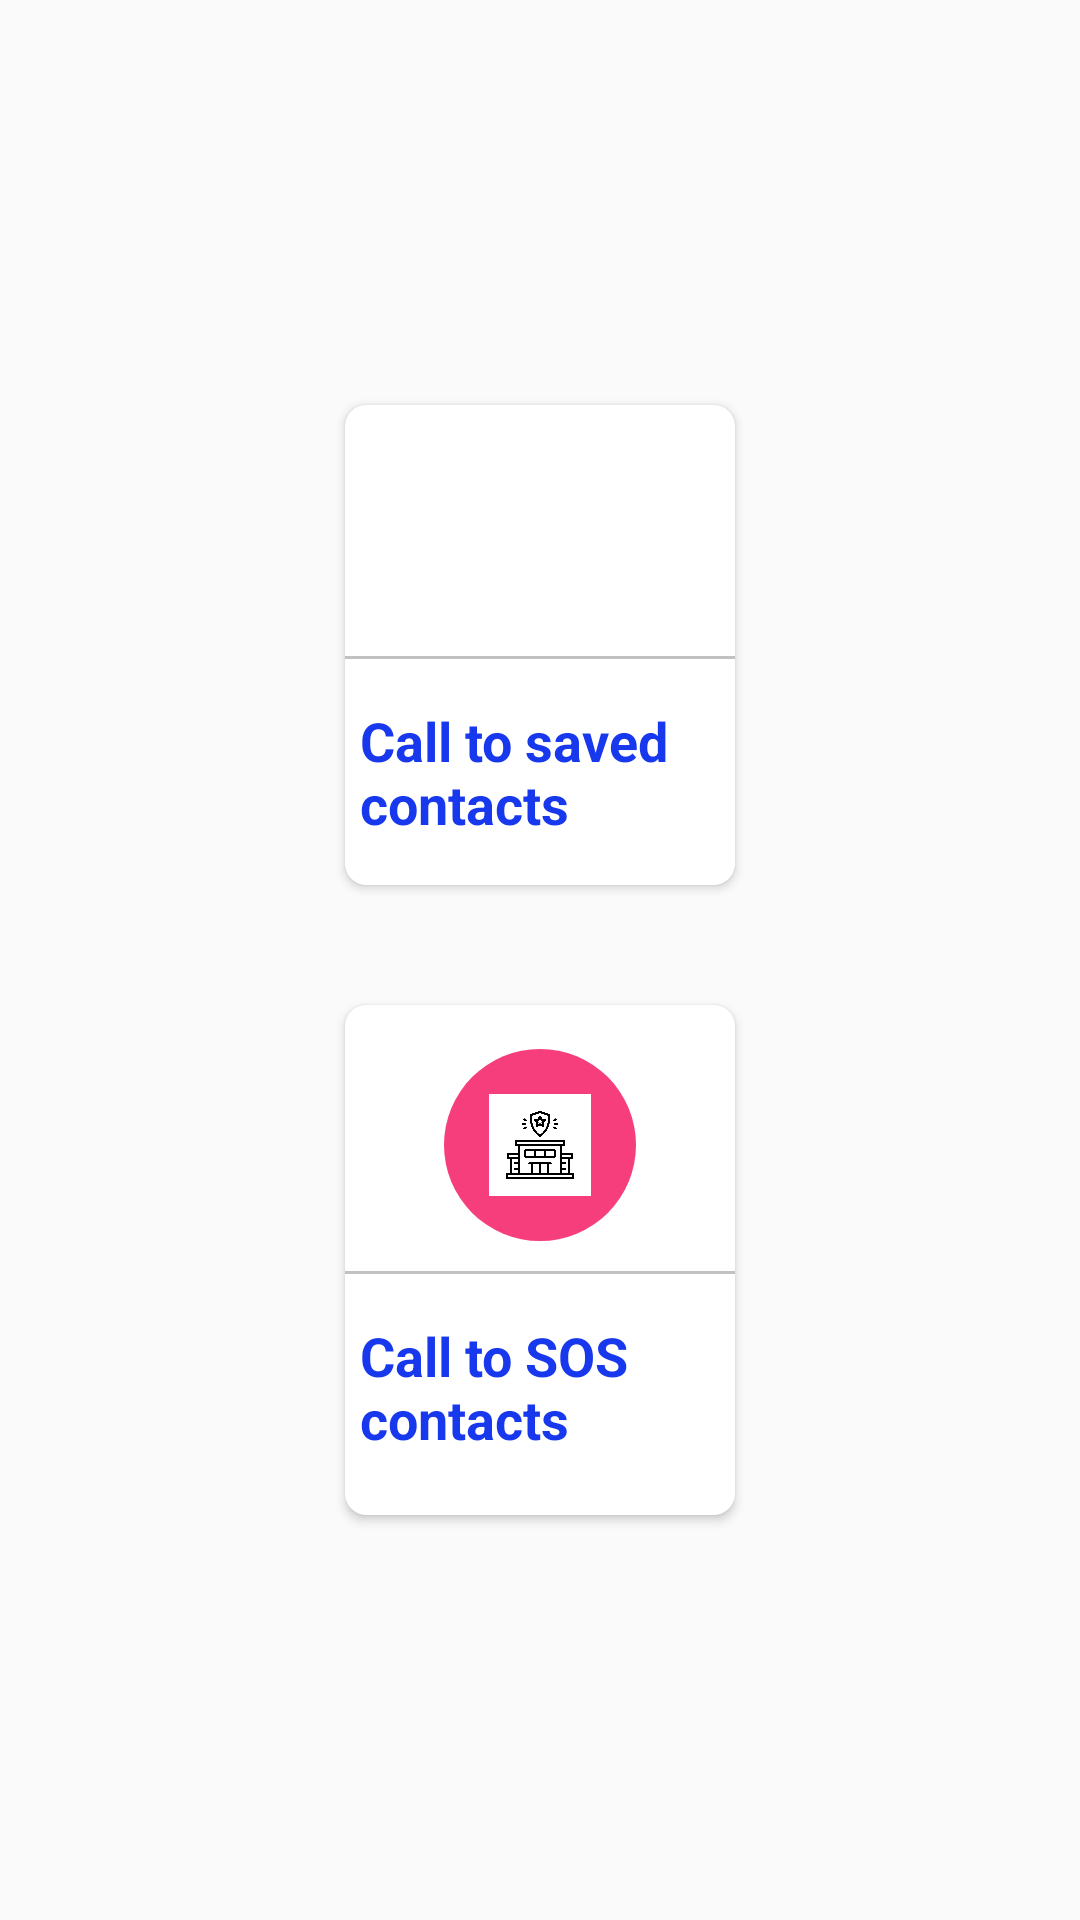

Named icons in this screenshot (1080px x 1920px) and their bounding boxes, (x1, y1, x2, y2):
police: (444, 1049, 636, 1241)
